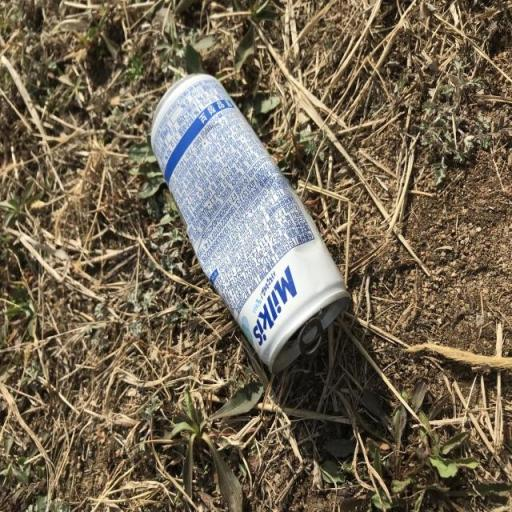metal: (142, 52, 360, 406)
